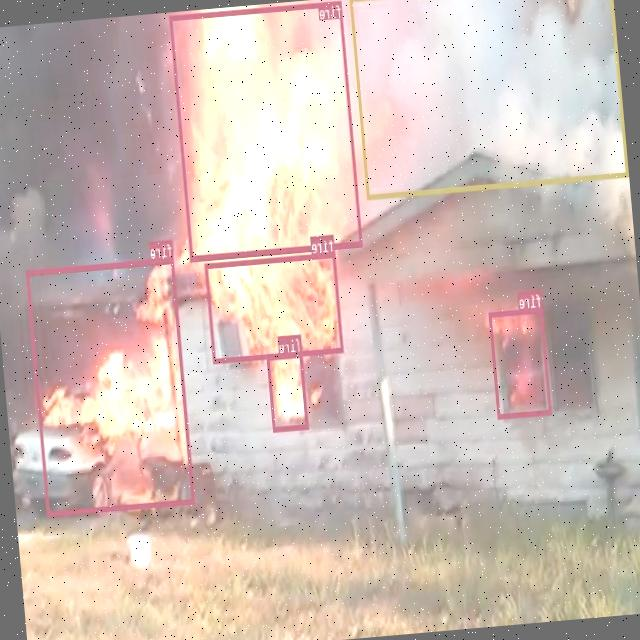fire: (169, 0, 363, 259), (26, 257, 195, 515), (204, 251, 344, 362), (488, 307, 552, 418), (266, 350, 309, 430)
smoke: (349, 0, 628, 197)
